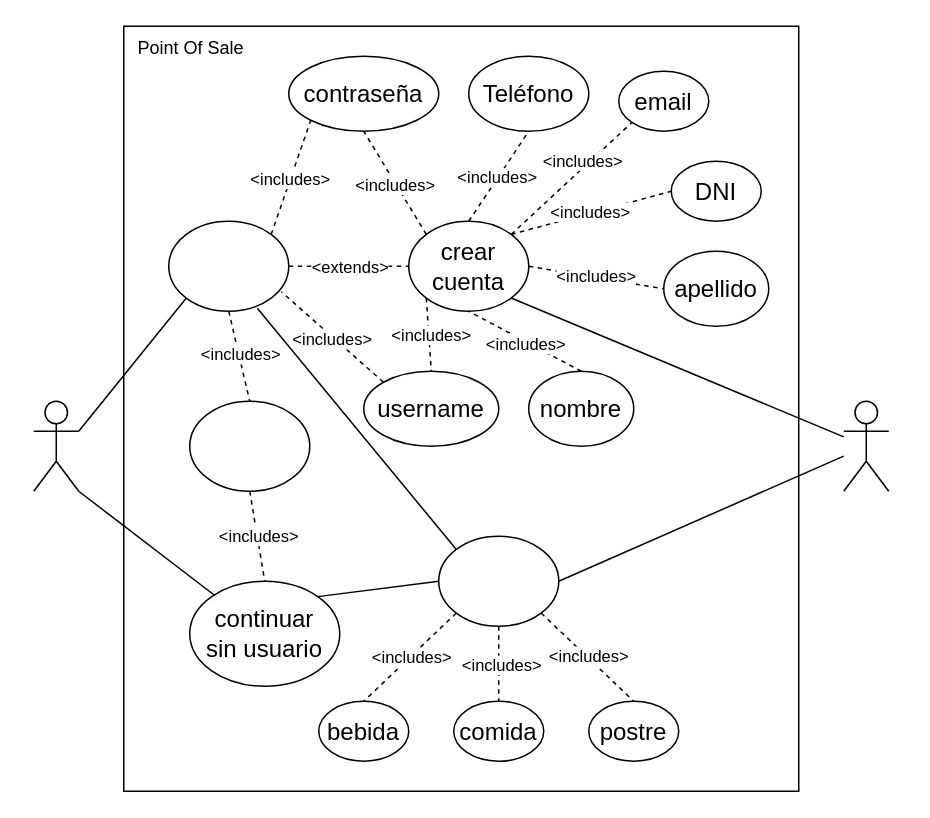
Image size: 930x818. Some labels were removed from this diagram. The centre of each missing label's shape, as x and y in pixels:
"Database" goes at pixel 865 445.
"hacer pedido" goes at pixel 498 580.
"iniciar sesión" goes at pixel 228 265.
"numero de mesa" goes at pixel 249 445.
"Usuario" goes at pixel 55 445.
